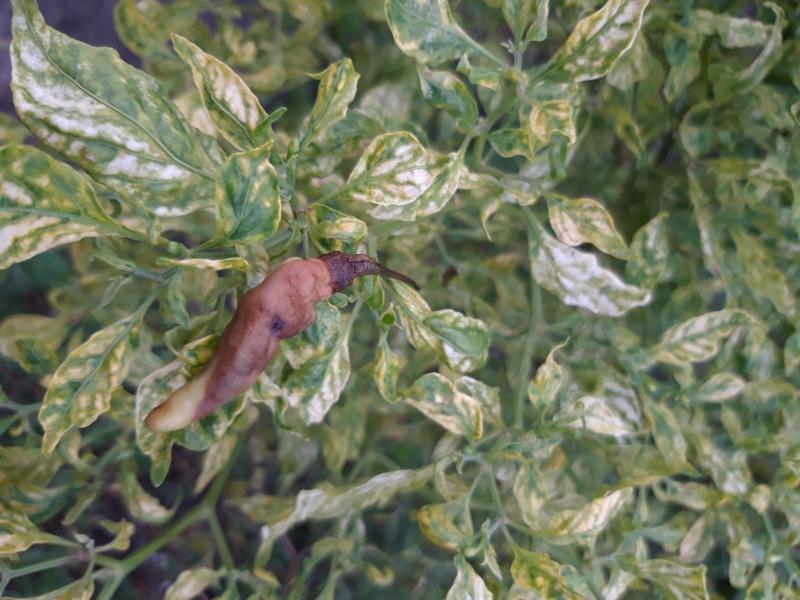lalat_buah: (142, 257, 331, 435)
